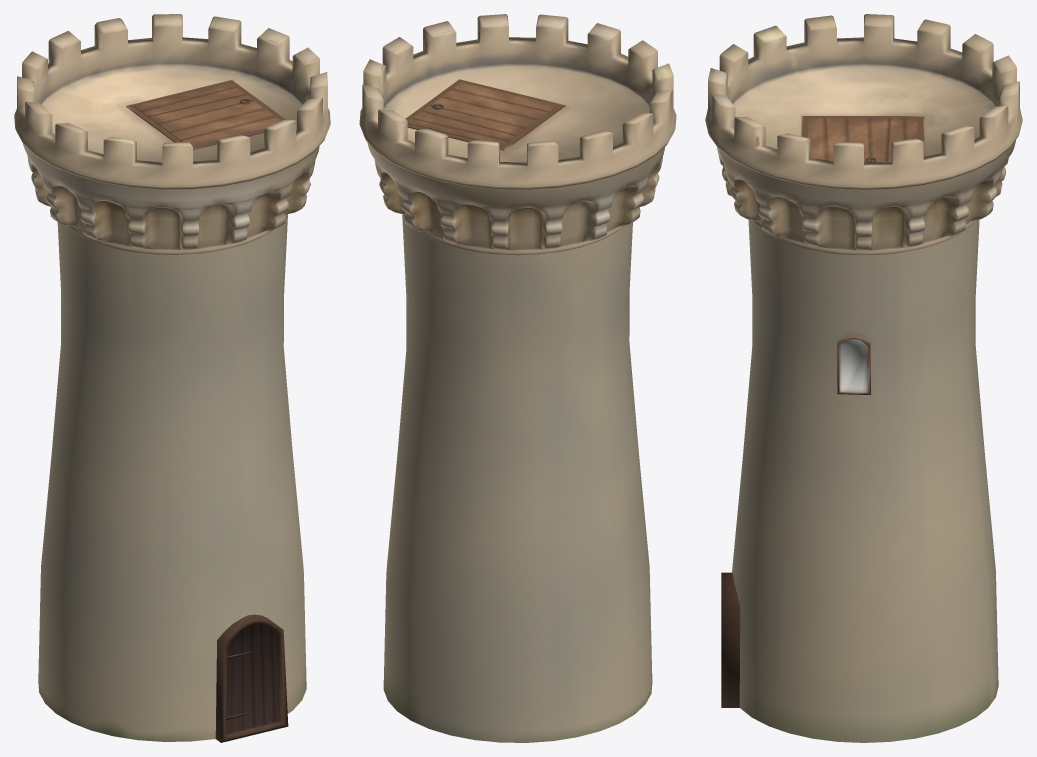
File: Tower.gltf
The picture shows the model from 3 angles, left to right: view 1: azimuth 30°, elevation 25°; view 2: azimuth 150°, elevation 25°; view 3: azimuth 270°, elevation 25°; orthographic projection.
Parts seen in each view (by area): view 1: Cylinder.004; view 2: Cylinder.004; view 3: Cylinder.004.
Boxes of the visible parts, left/top/right/bottom form: Cylinder.004: left=14, top=14, right=330, bottom=742; Cylinder.004: left=359, top=14, right=676, bottom=742; Cylinder.004: left=705, top=14, right=1022, bottom=742.
Size of the model in its own units: 6.29 by 13.24 by 6.29.
1 material, 1 textured.
